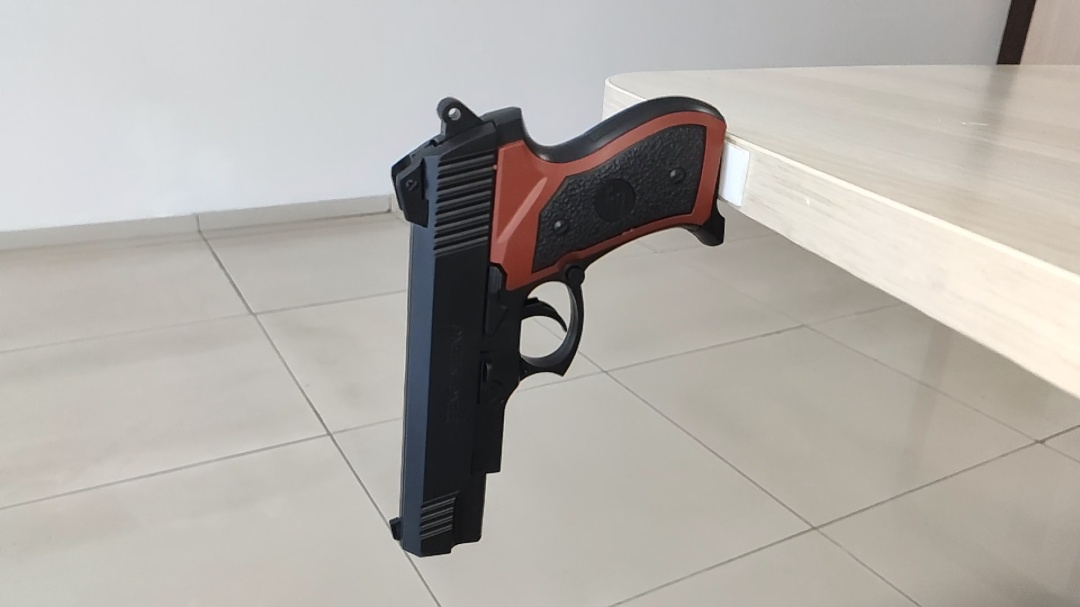gun: (371, 288, 517, 421)
